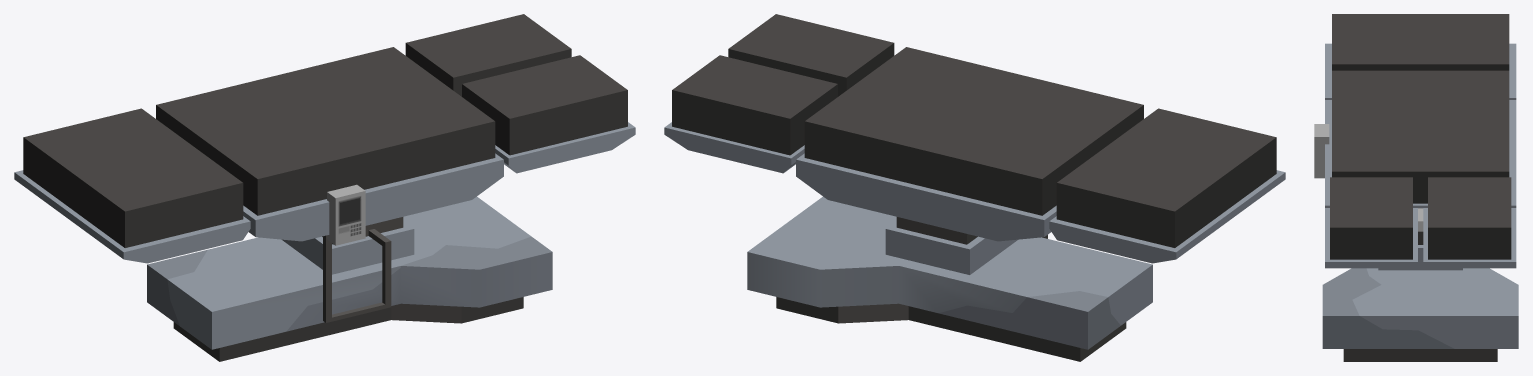
File: AI_Prop_Surgery_Table.fbx
3 views of the same model, side by side, from view 1: azimuth 30°, elevation 25°; view 2: azimuth 150°, elevation 25°; view 3: azimuth 270°, elevation 25° (orthographic). The views are drawn at different scales.
Parts seen in each view (by area): view 1: AI_Prop_Surgery_Table; view 2: AI_Prop_Surgery_Table; view 3: AI_Prop_Surgery_Table.
Boxes of the visible parts, x1,y1,x2,y2 form: AI_Prop_Surgery_Table: (14,14,635,361); AI_Prop_Surgery_Table: (664,14,1285,361); AI_Prop_Surgery_Table: (1314,14,1518,361).
Bounding box in the file's own units: 4.02 × 1.51 × 1.59.
